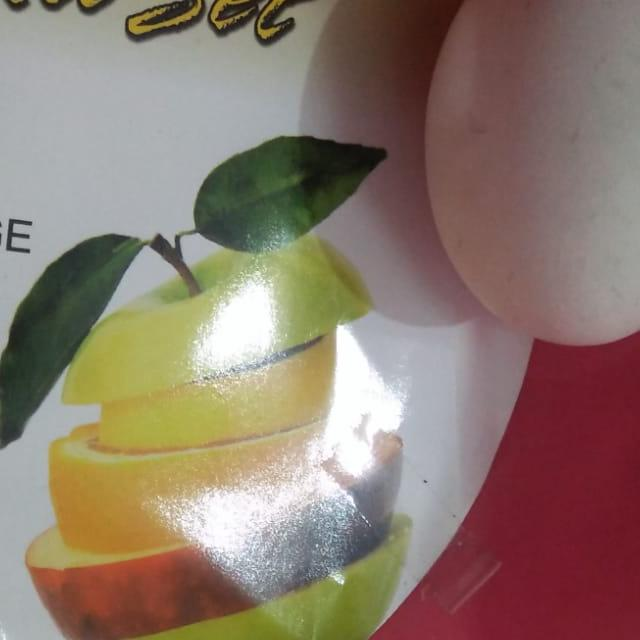egg: (0, 132, 416, 640), (383, 0, 640, 411)
